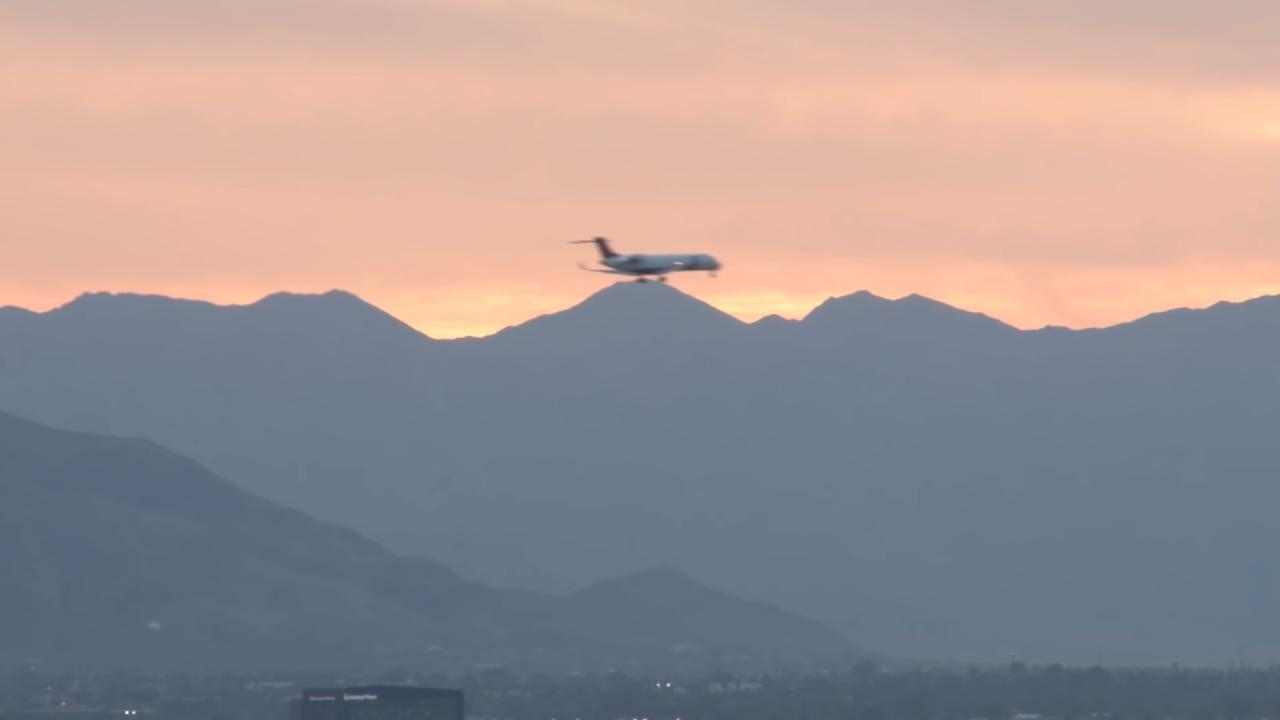Airplane: (559, 229, 734, 291)
